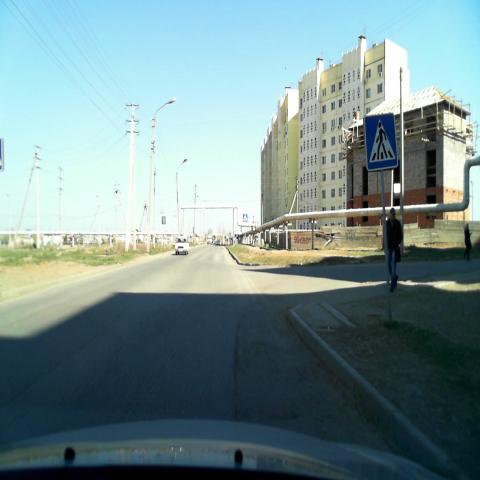5_19_1: (364, 113, 398, 171)
